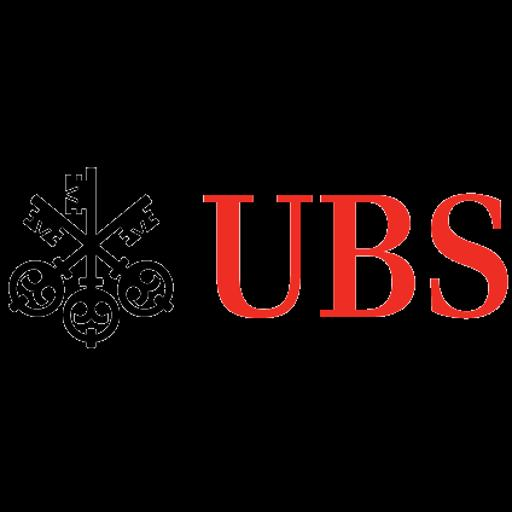UBS AG: (0, 160, 512, 352)
